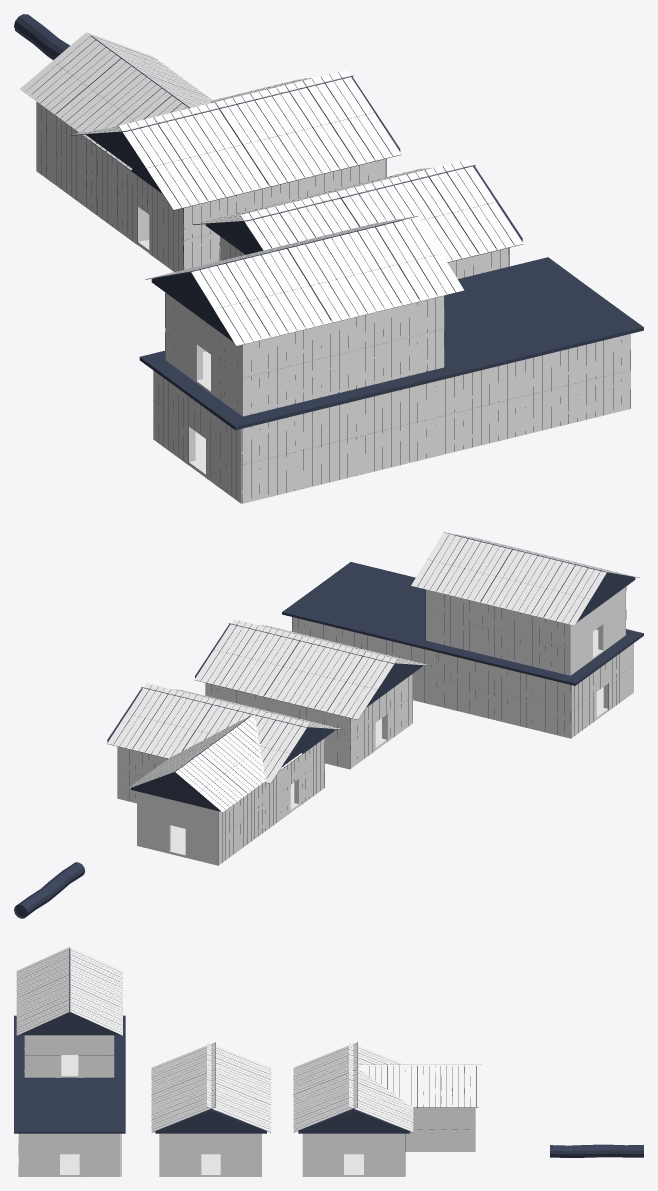
Rendered from TownHouses.fbx.
The picture shows the model from 3 angles, top to bottom: view 1: azimuth 30°, elevation 25°; view 2: azimuth 150°, elevation 25°; view 3: azimuth 270°, elevation 25°; orthographic projection. The views are drawn at different scales.
Parts seen in each view (by area): view 1: HouseL.010, HouseL.005, HouseSmall, Log; view 2: HouseL.010, HouseL.005, HouseSmall, Log; view 3: HouseL.010, HouseL.005, HouseSmall, Log.
Part boxes in pixels (<box>): HouseL.010: <box>139,216,643,503</box>; HouseL.005: <box>20,32,401,271</box>; HouseSmall: <box>192,159,523,278</box>; Log: <box>14,14,69,60</box>; HouseL.010: <box>282,532,643,738</box>; HouseL.005: <box>107,683,343,865</box>; HouseSmall: <box>194,619,431,769</box>; Log: <box>14,862,84,918</box>; HouseL.010: <box>14,947,125,1176</box>; HouseL.005: <box>293,1042,482,1176</box>; HouseSmall: <box>151,1042,271,1176</box>; Log: <box>550,1144,643,1157</box>.
Bounding box in the file's own units: 43.6 × 20.58 × 99.85.
